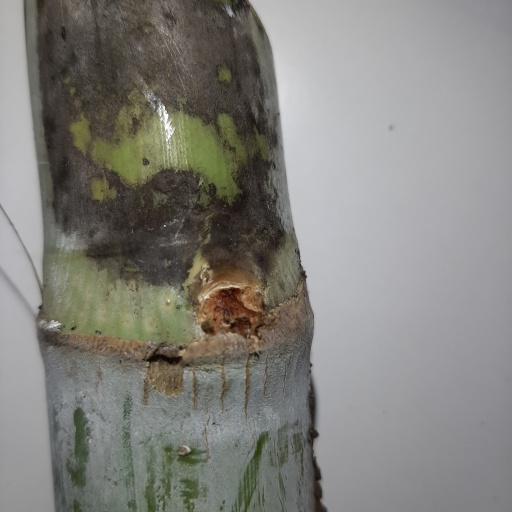Damage_Bud: (198, 270, 262, 332)
